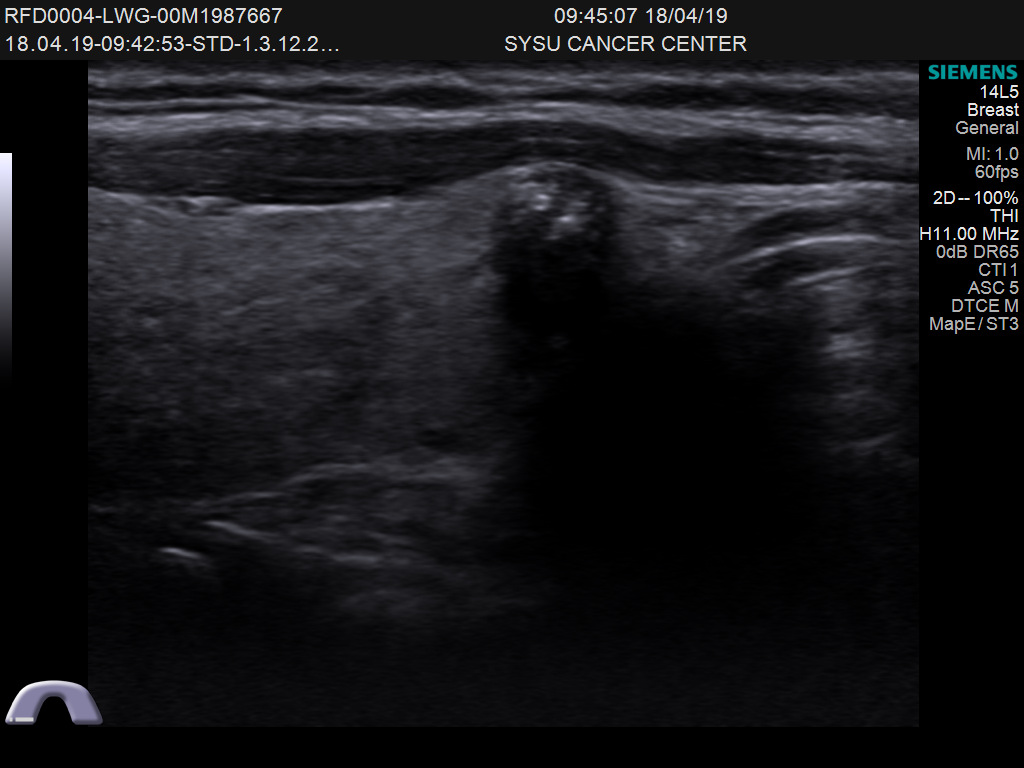Thyroid_tumor: (475, 155, 655, 314)
